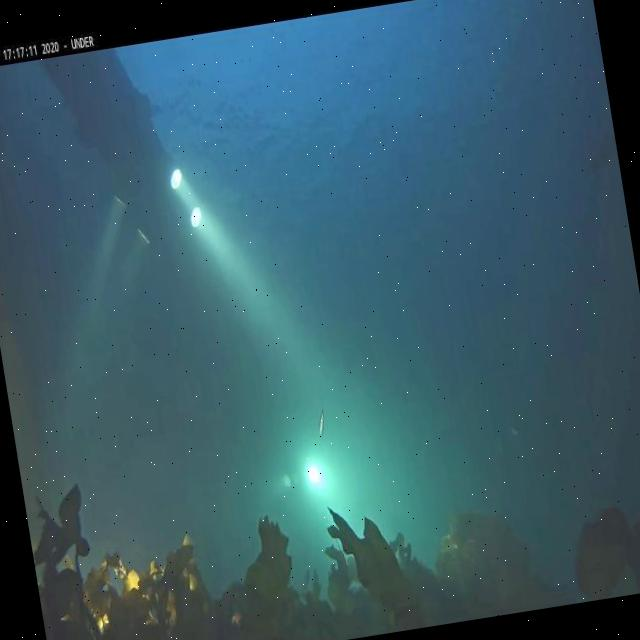fish: (315, 410, 328, 436)
